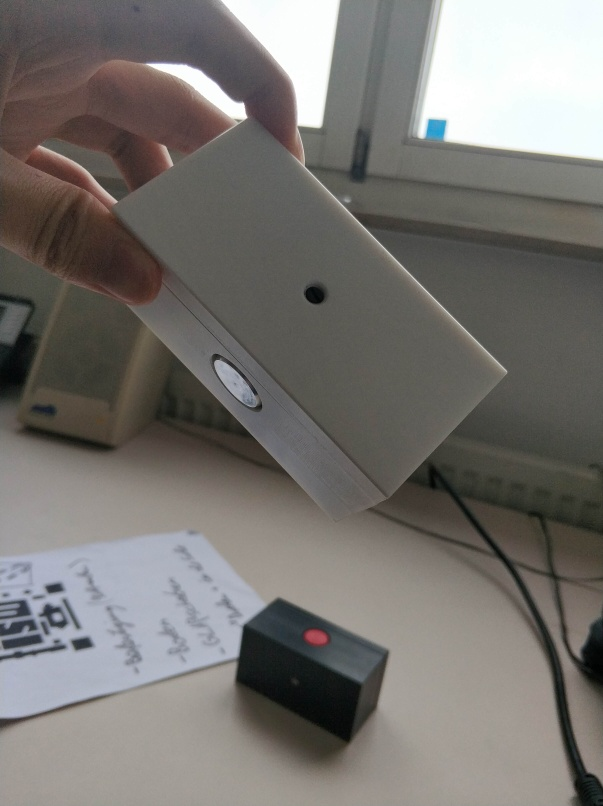black+black+red: (231, 594, 394, 747)
white+white+silver: (102, 118, 511, 529)
